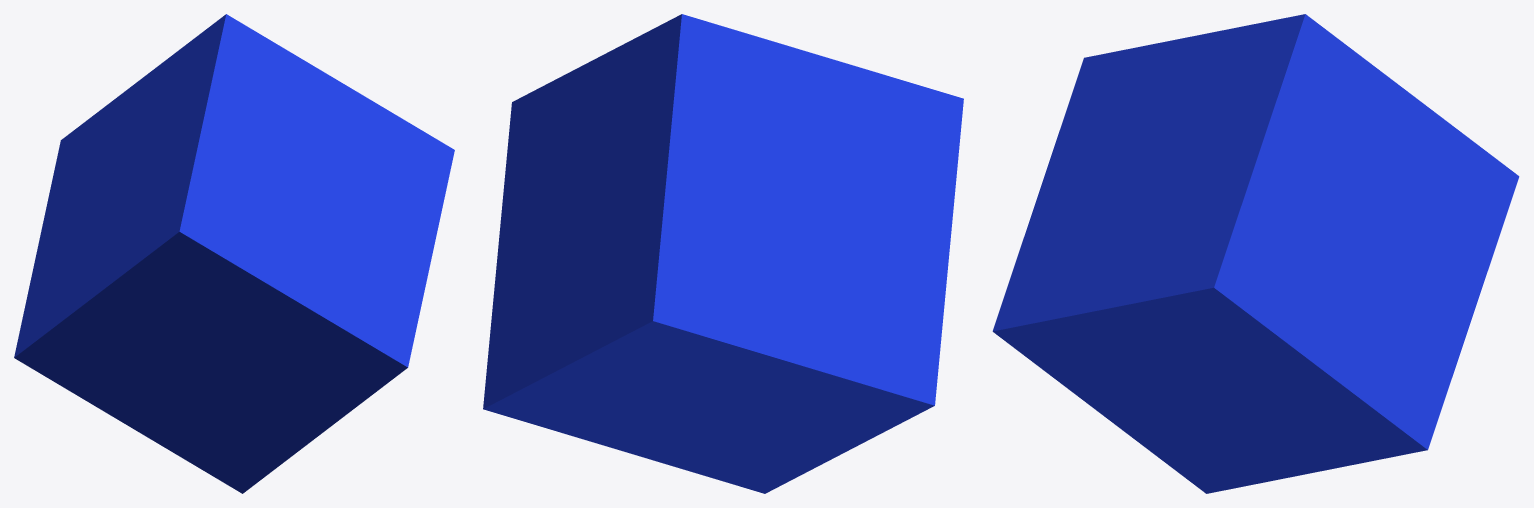
Rendered from cubepillar.fbx.
3 renders of one model, left to right at view 1: azimuth 30°, elevation 25°; view 2: azimuth 150°, elevation 25°; view 3: azimuth 270°, elevation 25°, orthographic. The views are drawn at different scales.
Visible parts, largest first — view 1: cubepillar; view 2: cubepillar; view 3: cubepillar.
Part boxes in pixels (<box>): cubepillar: <box>14,14,454,493</box>; cubepillar: <box>483,14,963,493</box>; cubepillar: <box>992,14,1519,493</box>.
Bounding box in the file's own units: 209 × 219 × 211.
